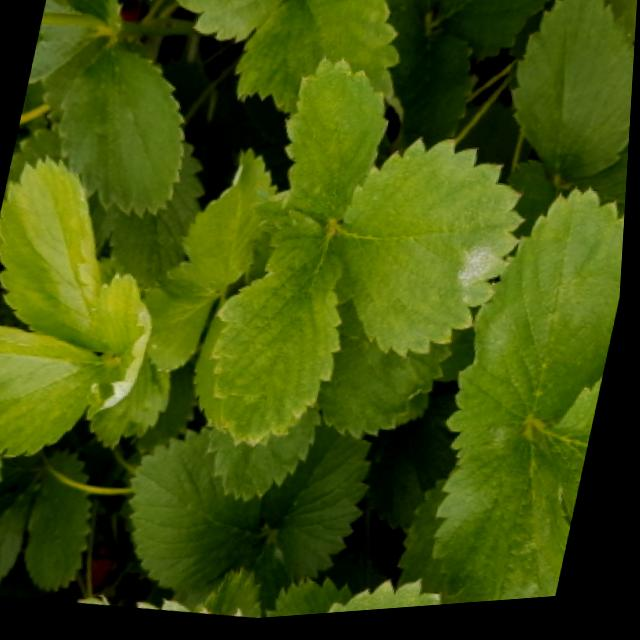Powdery Mildew Leaf: (343, 145, 532, 367), (95, 274, 158, 413)
